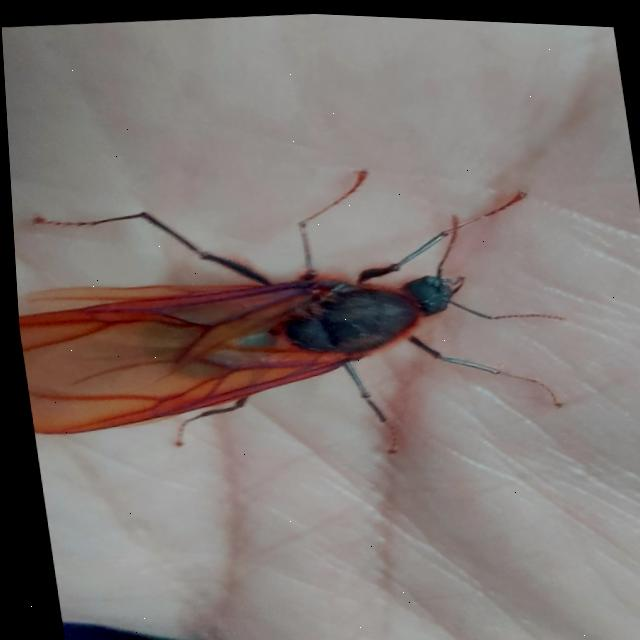Alive-Male-Alate: (6, 138, 582, 490)
